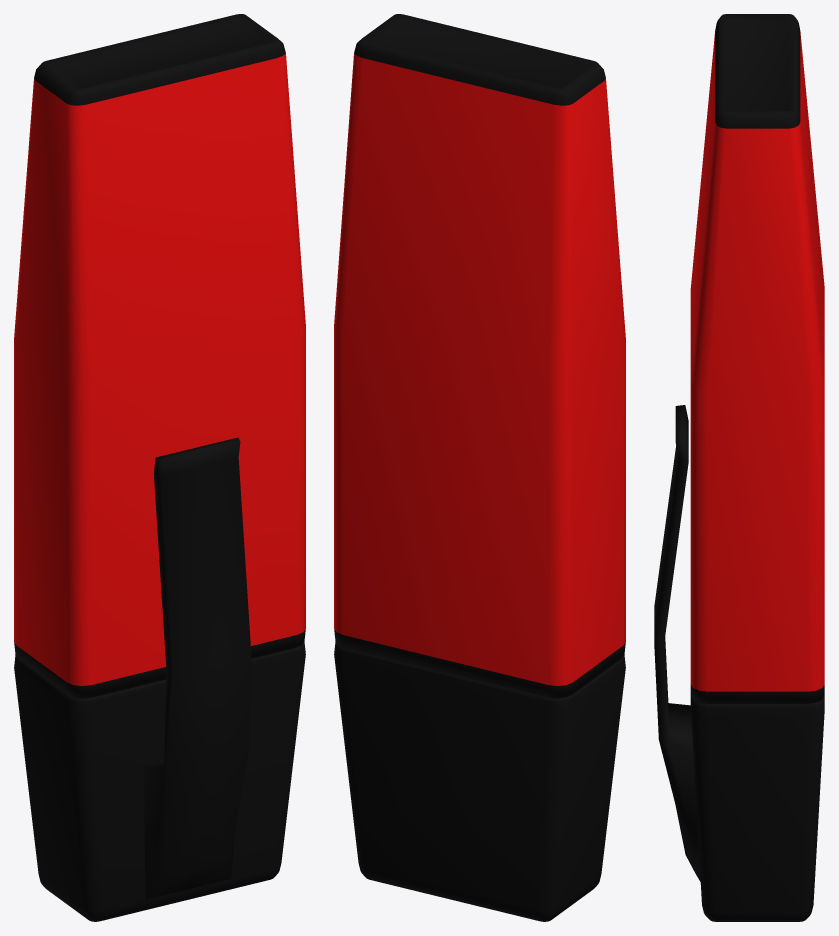
Rendered from marker_01.FBX.
3 renders of one model, left to right at view 1: azimuth 30°, elevation 25°; view 2: azimuth 150°, elevation 25°; view 3: azimuth 270°, elevation 25°, orthographic.
Visible parts, largest first — view 1: marker_01, marker_01_cap; view 2: marker_01, marker_01_cap; view 3: marker_01, marker_01_cap.
Boxes of the visible parts, left/top/right/bottom form: marker_01: left=14, top=14, right=305, bottom=698; marker_01_cap: left=14, top=437, right=305, bottom=921; marker_01: left=334, top=14, right=625, bottom=698; marker_01_cap: left=334, top=642, right=625, bottom=921; marker_01: left=690, top=14, right=824, bottom=703; marker_01_cap: left=654, top=405, right=824, bottom=921.
Bounding box in the file's own units: 400 × 1347 × 255.
